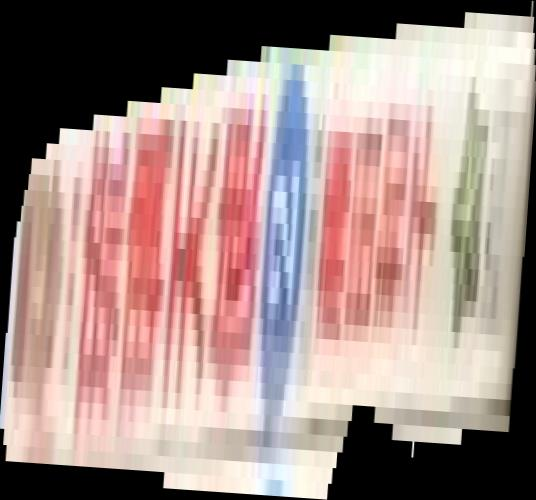flat: (1, 1, 536, 500)
